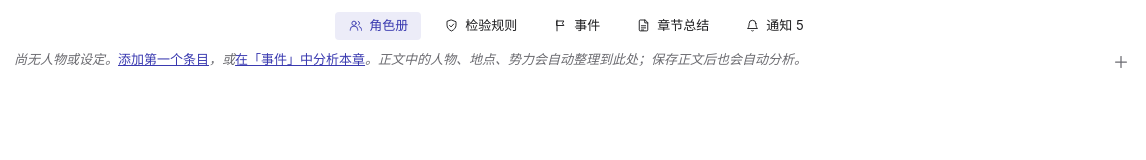
右侧信息区 › 角色册空态里的「在「事件」中分析本章」是一条路：点它就到「事件」那一格
The image size is (1146, 160).
Click the link "在「事件」中分析本章". click: [300, 58]
box: [235, 50, 365, 66]
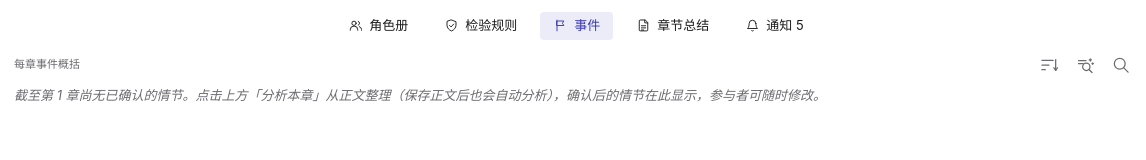
Now the button named "分析本章" is shown, box [1068, 50, 1102, 80]
